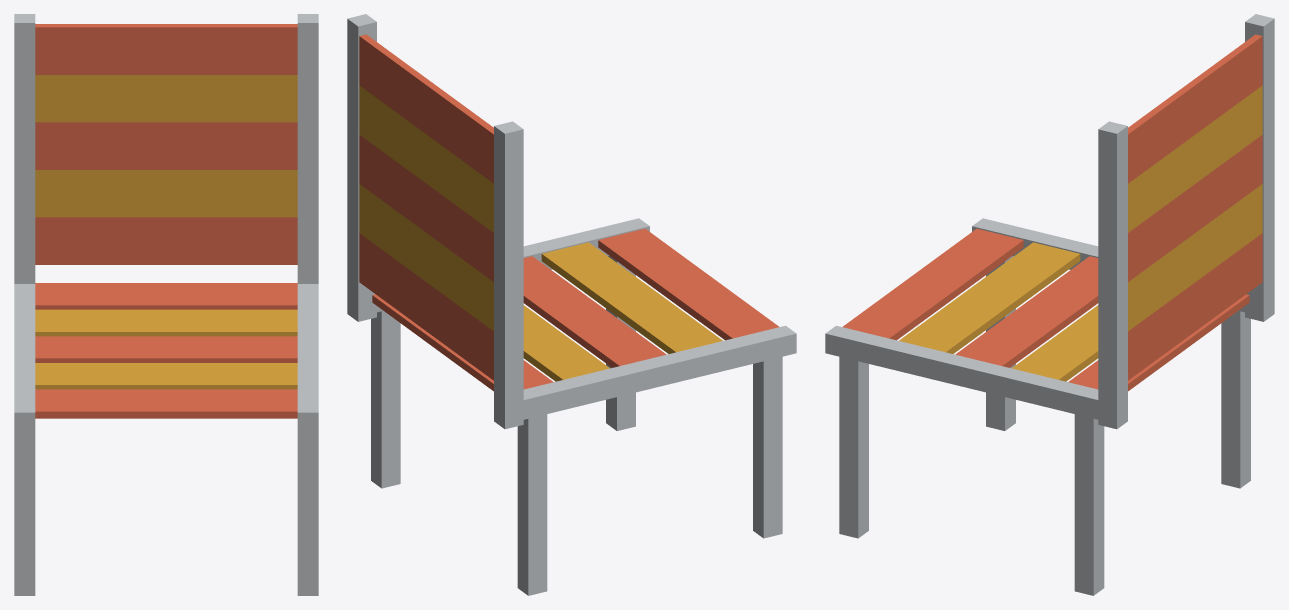
File: lawn_chair_2.glb
3 views of the same model, side by side, from view 1: azimuth 30°, elevation 25°; view 2: azimuth 150°, elevation 25°; view 3: azimuth 270°, elevation 25° (orthographic). The views are drawn at different scales.
Parts seen in each view (by area): view 1: Box18, Box10, Box12, Box14, Box16, Box9, Box15, Box11, Box13, Box17, Box4, Box8 (+4 smaller); view 2: Box8, Box5, Box18, Box11, Box9, Box10, Box16, Box12, Box14, Box13, Box7, Box6 (+6 smaller); view 3: Box4, Box1, Box18, Box11, Box9, Box10, Box16, Box12, Box14, Box13, Box3, Box2 (+6 smaller).
Boxes of the visible parts, x1=… form: Box18: x1=35, y1=24, x2=297, y2=74; Box10: x1=35, y1=217, x2=297, y2=264; Box12: x1=35, y1=170, x2=297, y2=217; Box14: x1=35, y1=122, x2=297, y2=169; Box16: x1=35, y1=75, x2=297, y2=122; Box9: x1=35, y1=389, x2=297, y2=418; Box15: x1=35, y1=309, x2=297, y2=336; Box11: x1=35, y1=363, x2=297, y2=389; Box13: x1=35, y1=336, x2=297, y2=362; Box17: x1=35, y1=283, x2=297, y2=309; Box4: x1=297, y1=14, x2=318, y2=283; Box8: x1=14, y1=14, x2=35, y2=283; Box8: x1=494, y1=121, x2=523, y2=429; Box5: x1=514, y1=325, x2=796, y2=421; Box18: x1=359, y1=34, x2=493, y2=183; Box11: x1=541, y1=242, x2=722, y2=353; Box9: x1=598, y1=228, x2=778, y2=340; Box10: x1=359, y1=233, x2=493, y2=380; Box16: x1=359, y1=85, x2=493, y2=232; Box12: x1=359, y1=184, x2=493, y2=331; Box14: x1=359, y1=135, x2=493, y2=281; Box13: x1=523, y1=256, x2=666, y2=367; Box7: x1=517, y1=386, x2=547, y2=595; Box6: x1=753, y1=329, x2=782, y2=538; Box4: x1=1098, y1=121, x2=1127, y2=429; Box1: x1=825, y1=325, x2=1107, y2=421; Box18: x1=1128, y1=34, x2=1262, y2=183; Box11: x1=899, y1=242, x2=1080, y2=353; Box9: x1=843, y1=228, x2=1023, y2=340; Box10: x1=1128, y1=233, x2=1262, y2=380; Box16: x1=1128, y1=85, x2=1262, y2=232; Box12: x1=1128, y1=184, x2=1262, y2=331; Box14: x1=1128, y1=135, x2=1262, y2=281; Box13: x1=955, y1=256, x2=1098, y2=367; Box3: x1=1074, y1=386, x2=1104, y2=595; Box2: x1=839, y1=329, x2=868, y2=538.
Size of the model in its own units: 0.8123 by 0.95 by 0.8269.
